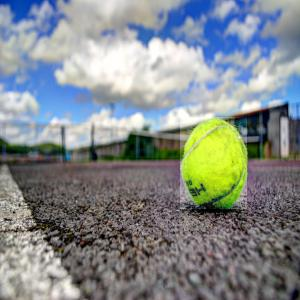TennisBall: (181, 118, 249, 211)
